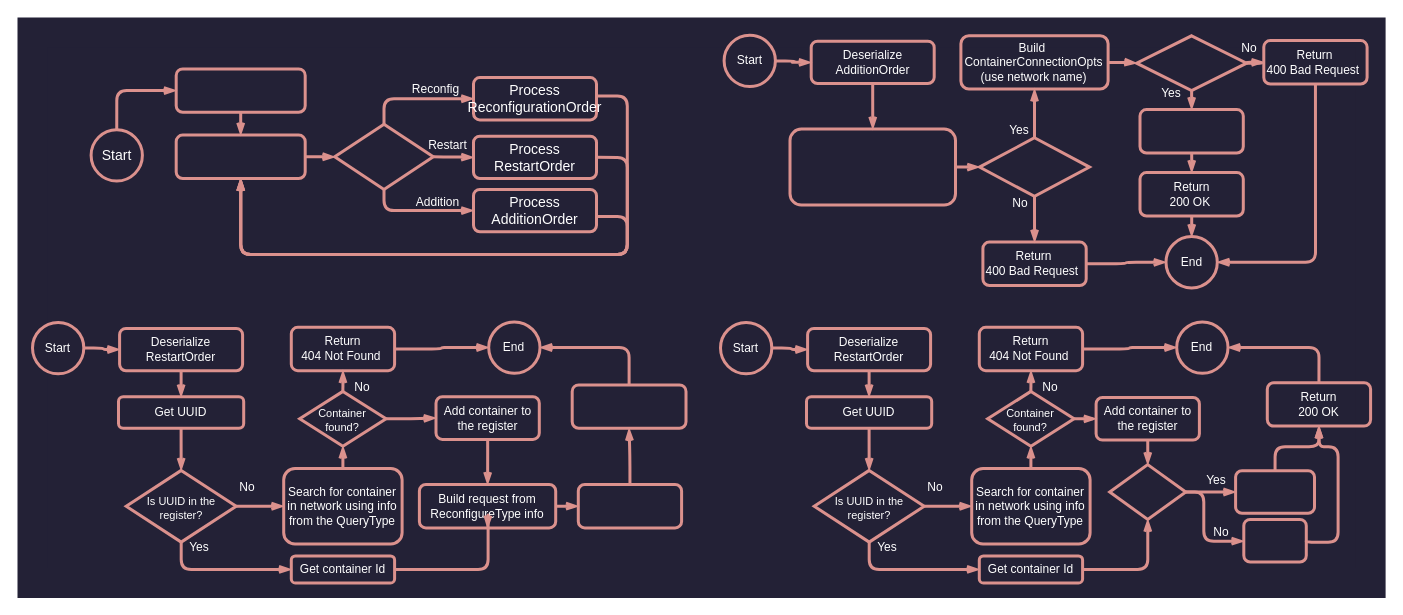
The diagram is 1403 pixels wide and 615 high, and some of its shapes have lost their labels. Each missing label, with the box of its shape:
Build connection to docker API: (174, 67, 306, 113)
Build ContainerCreationOptions (Use image, env_vars and args): (788, 127, 956, 206)
Connection successful?: (1135, 34, 1248, 92)
Creation successful?: (978, 136, 1090, 197)
Is it running?: (1108, 463, 1187, 520)
Order to process: (333, 122, 434, 190)
Return code from the request: (570, 383, 687, 429)
Send request to endpoint: (576, 482, 683, 529)
Send restart signal: (1234, 469, 1316, 514)
Send start signal: (1242, 517, 1307, 563)
Start Container, add id to register: (1138, 108, 1244, 154)
Wait for POST Request on endpoints: (174, 133, 306, 180)
